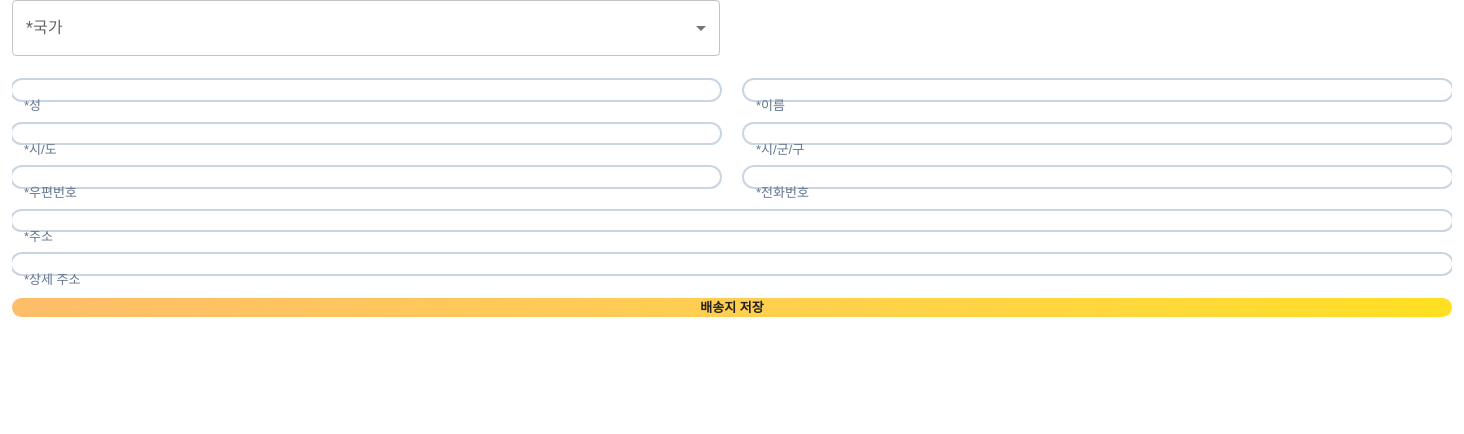
Test: AddShipping › names the field it is complaining about
Click the button "배송지 저장" at (732, 307), box [12,298,1452,317]
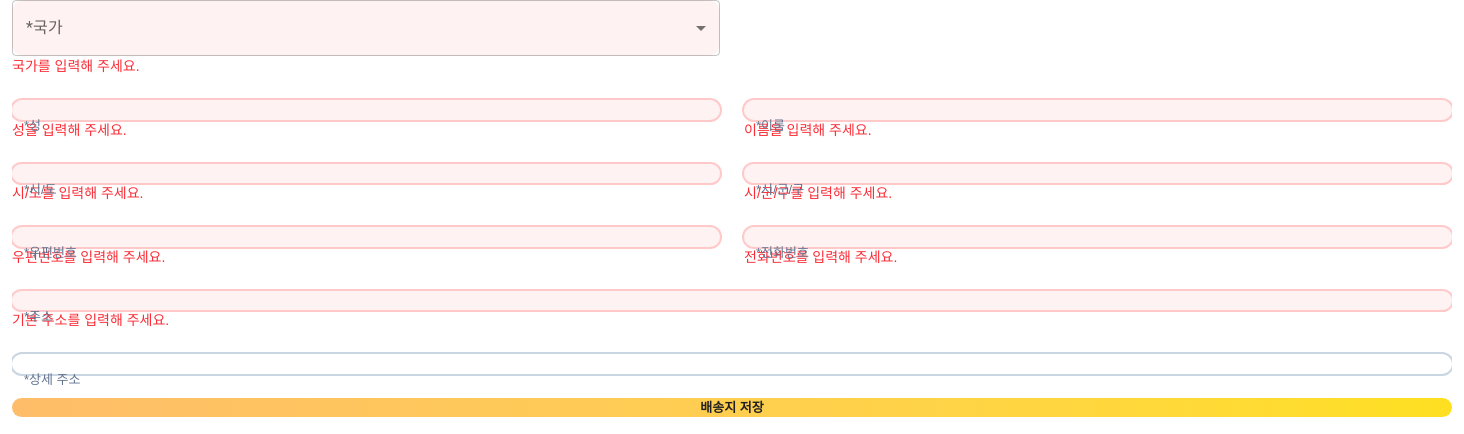
Check: the text "전화번호를 입력해 주세요." is shown, box [744,248,897,264]
